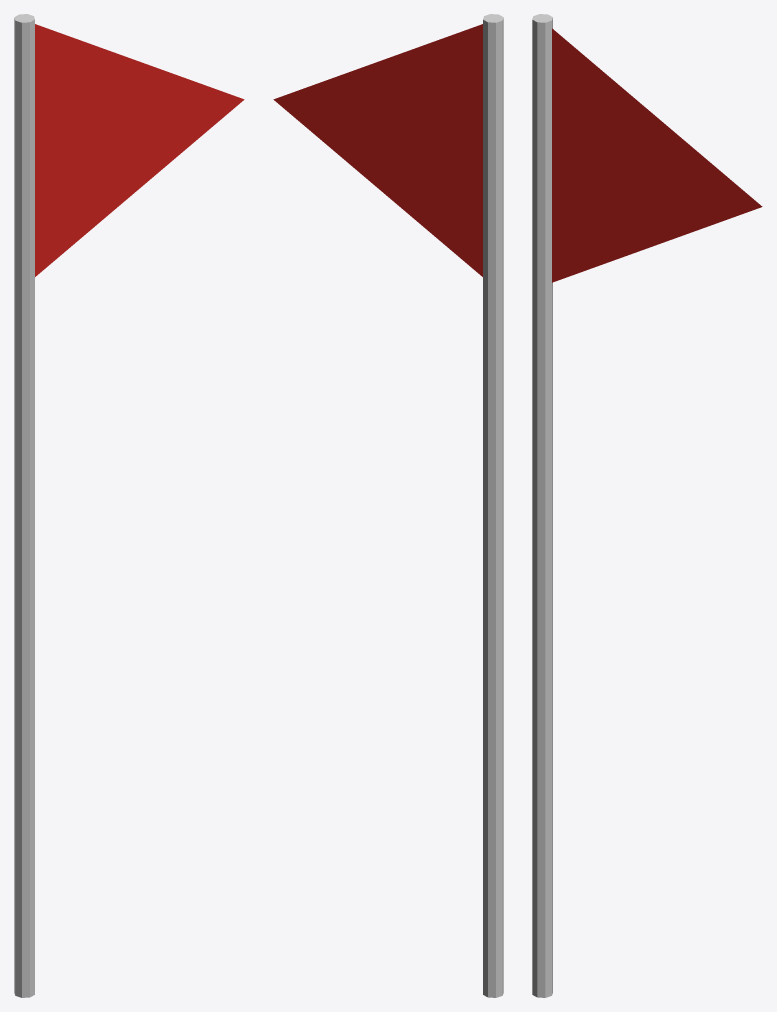
Rendered from Checkpoint_flag.fbx.
3 renders of one model, left to right at view 1: azimuth 30°, elevation 25°; view 2: azimuth 150°, elevation 25°; view 3: azimuth 330°, elevation 25°, orthographic.
Visible parts, largest first — view 1: Cylinder.001, Cylinder; view 2: Cylinder.001, Cylinder; view 3: Cylinder.001, Cylinder.
Part boxes in pixels (x1,y1,x2,y2): Cylinder.001: [35, 24, 244, 276]; Cylinder: [14, 14, 34, 997]; Cylinder.001: [273, 24, 482, 276]; Cylinder: [483, 14, 503, 997]; Cylinder.001: [552, 28, 762, 282]; Cylinder: [532, 14, 552, 997].
Size of the model in its own units: 49.24 by 200 by 4.
Materials: 1 (1 with a texture image).
